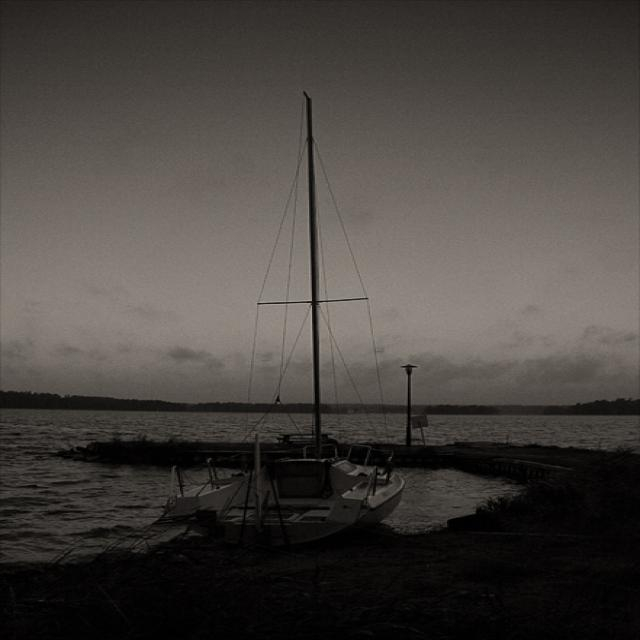Boat: (92, 46, 495, 592)
